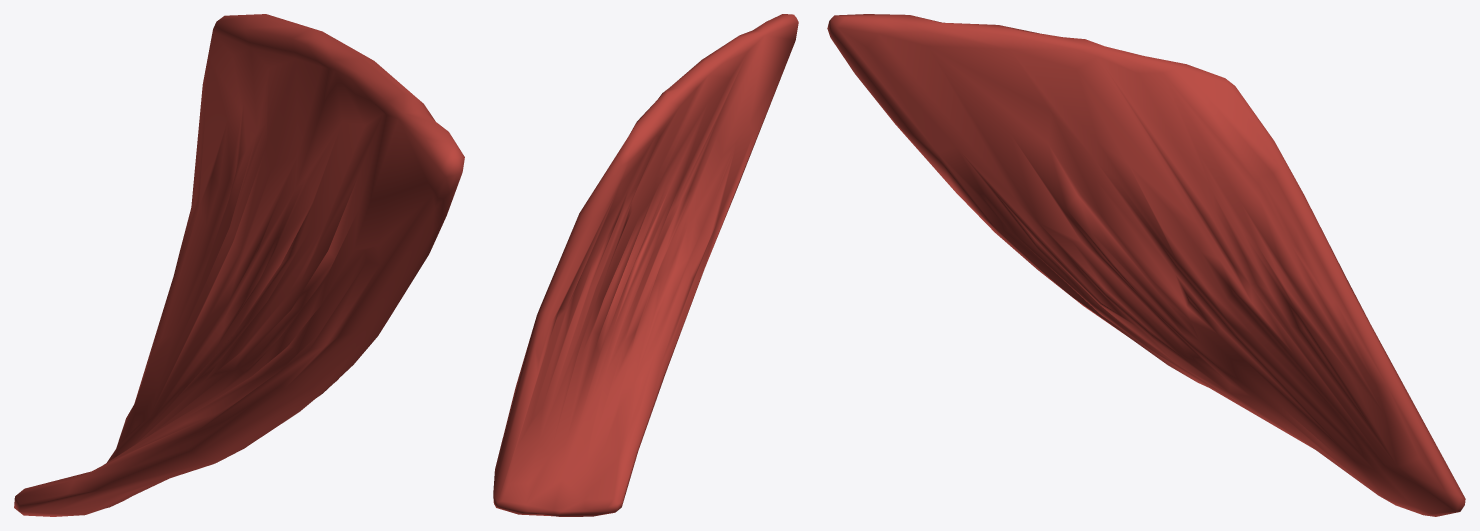
File: musculos-hyoglossus-muscle-l.glb
The picture shows the model from 3 angles, left to right: view 1: azimuth 30°, elevation 25°; view 2: azimuth 150°, elevation 25°; view 3: azimuth 270°, elevation 25°; orthographic projection. The views are drawn at different scales.
Parts seen in each view (by area): view 1: Hyoglossus muscle.l; view 2: Hyoglossus muscle.l; view 3: Hyoglossus muscle.l.
Boxes of the visible parts, bbox=[...] form: Hyoglossus muscle.l: bbox=[14, 14, 464, 516]; Hyoglossus muscle.l: bbox=[493, 14, 798, 516]; Hyoglossus muscle.l: bbox=[827, 14, 1465, 516].
Bounding box in the file's own units: 0.00788 × 0.0253 × 0.0307.
